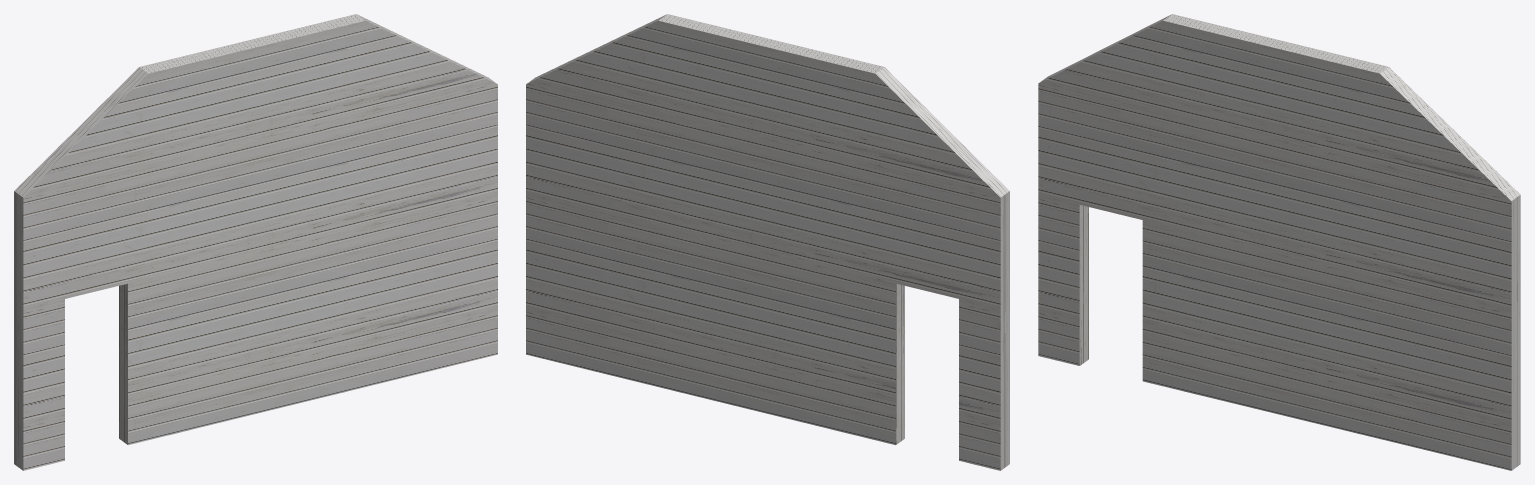
The model's file is Wall 3.FBX.
3 renders of one model, left to right at view 1: azimuth 30°, elevation 25°; view 2: azimuth 150°, elevation 25°; view 3: azimuth 330°, elevation 25°, orthographic.
Visible parts, largest first — view 1: wall 3; view 2: wall 3; view 3: wall 3.
Part boxes in pixels (bbox=[...]): wall 3: bbox=[14, 14, 497, 470]; wall 3: bbox=[526, 14, 1009, 470]; wall 3: bbox=[1038, 14, 1520, 470].
Bounding box in the file's own units: 742 × 548 × 25.
1 material, 1 textured.
